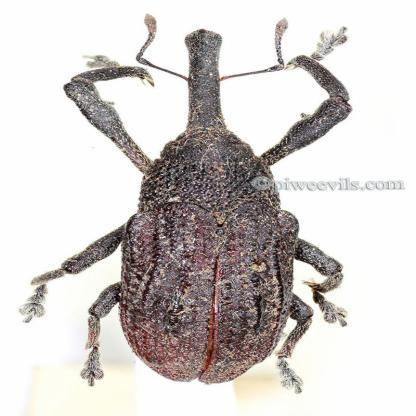rice-bug: (26, 13, 364, 394)
